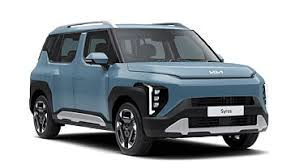car: (27, 18, 270, 155)
